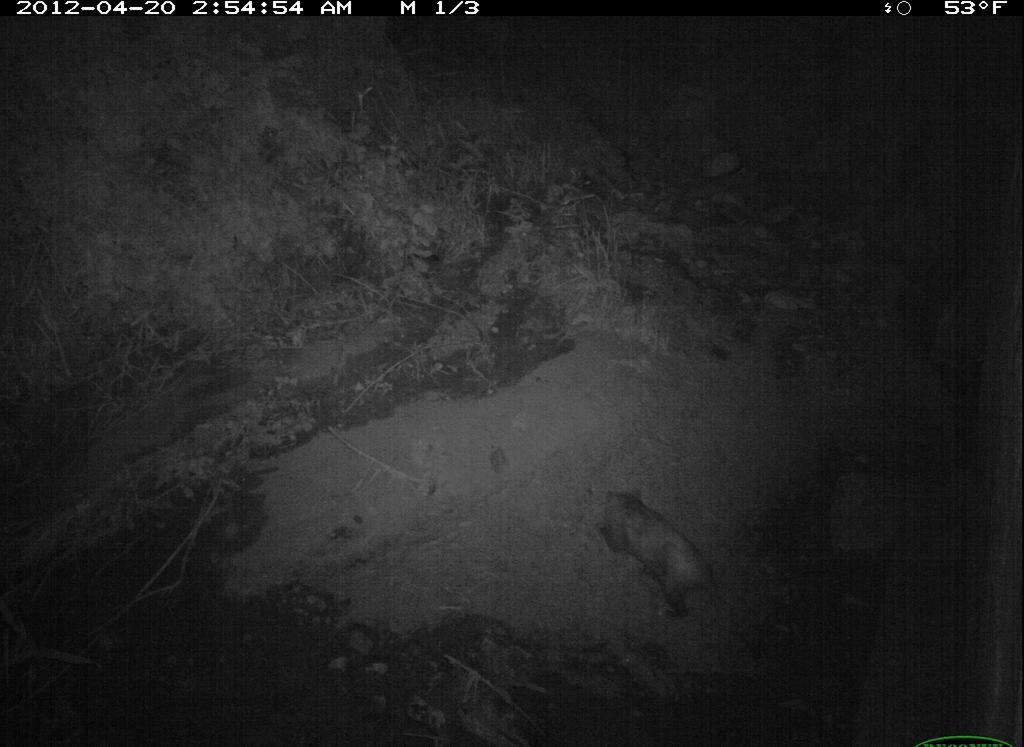opossum: (594, 475, 756, 637)
